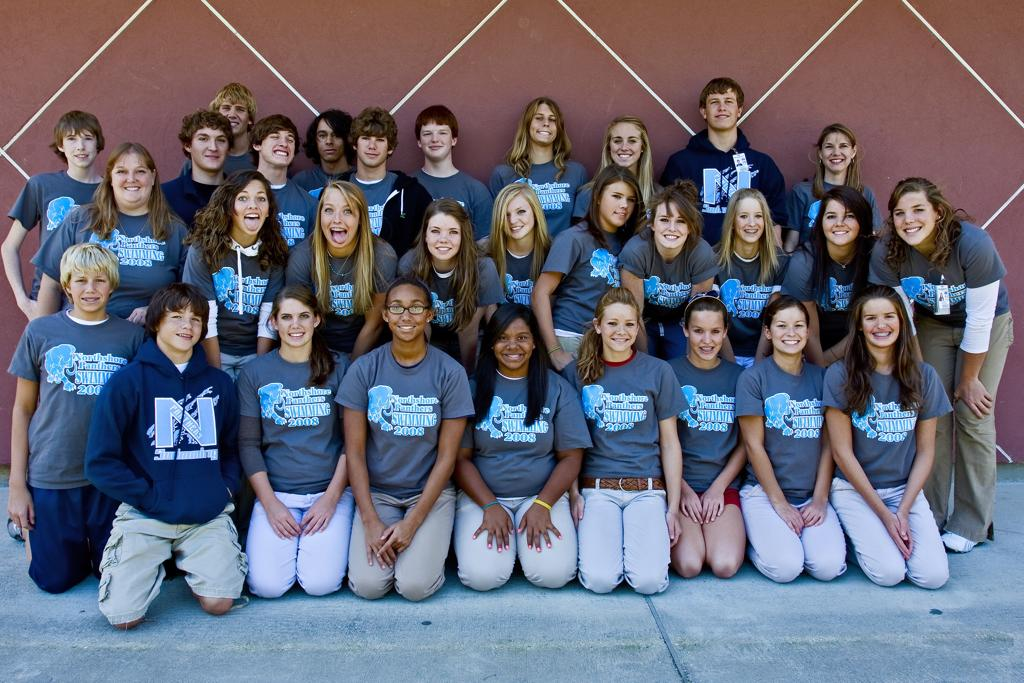face: (157, 297, 202, 351), (892, 191, 935, 247), (387, 284, 427, 341), (110, 149, 152, 203), (319, 193, 358, 248), (493, 317, 533, 370), (231, 183, 269, 236), (860, 296, 900, 346), (599, 301, 638, 352), (768, 306, 808, 354), (821, 196, 860, 245), (687, 309, 724, 360), (69, 266, 110, 312), (277, 298, 314, 348), (190, 123, 228, 171), (653, 198, 689, 248), (599, 179, 635, 227), (427, 212, 462, 260), (260, 124, 296, 166), (500, 197, 535, 240), (733, 196, 764, 243), (355, 122, 388, 166), (609, 122, 641, 167), (820, 130, 853, 173), (61, 127, 95, 167), (705, 87, 737, 129), (315, 116, 344, 162), (419, 120, 451, 158), (529, 102, 557, 144), (218, 97, 248, 136)
